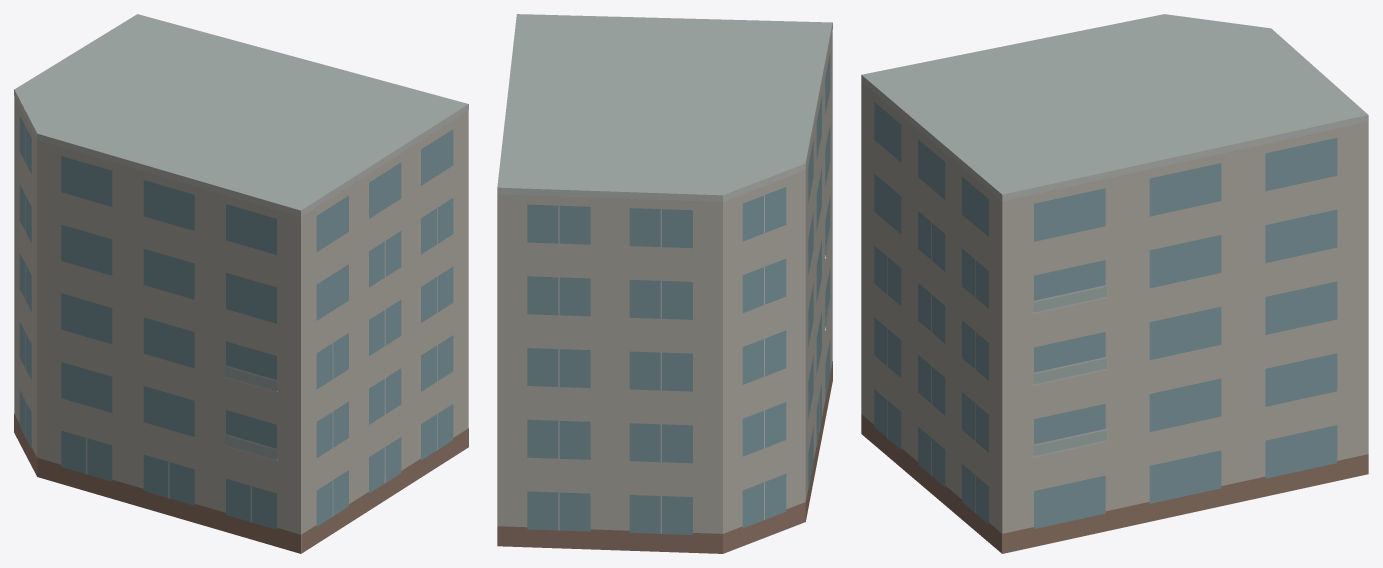
File: survey-upis-32998948.glb
3 renders of one model, left to right at view 1: azimuth 30°, elevation 25°; view 2: azimuth 150°, elevation 25°; view 3: azimuth 270°, elevation 25°, orthographic. The views are drawn at different scales.
Visible parts, largest first — view 1: survey-upis-32998948.tmp; view 2: survey-upis-32998948.tmp; view 3: survey-upis-32998948.tmp.
Boxes of the visible parts, <box> form: survey-upis-32998948.tmp: <box>14,14,468,553</box>; survey-upis-32998948.tmp: <box>497,14,832,553</box>; survey-upis-32998948.tmp: <box>861,14,1368,553</box>.
Bounding box in the file's own units: 14.14 × 13.1 × 16.77.
